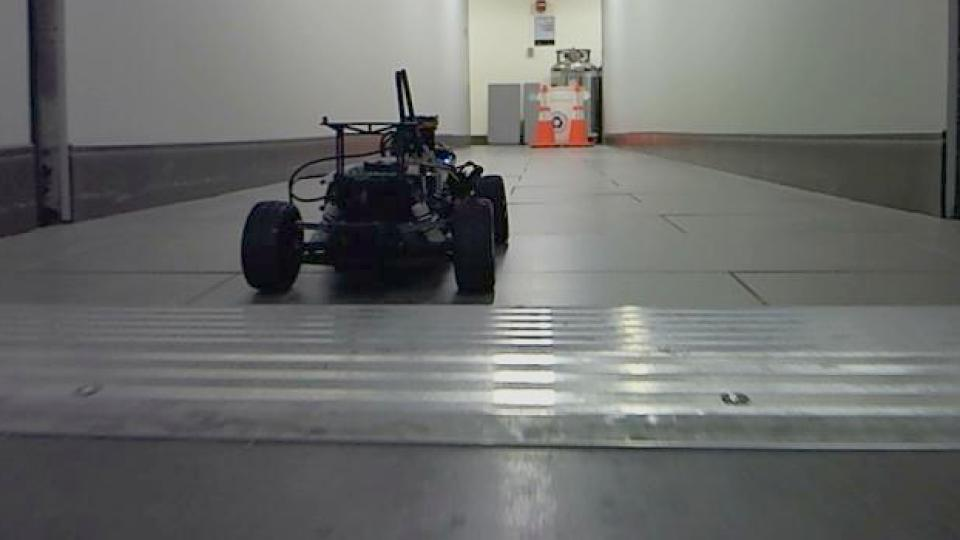car: (238, 66, 514, 301)
